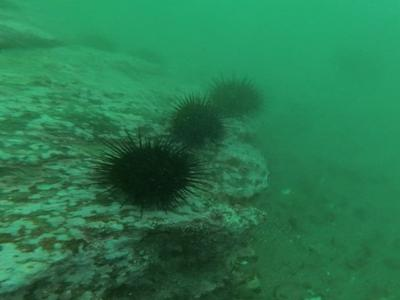urchin: (99, 130, 195, 208), (172, 94, 224, 150), (210, 76, 259, 115)
